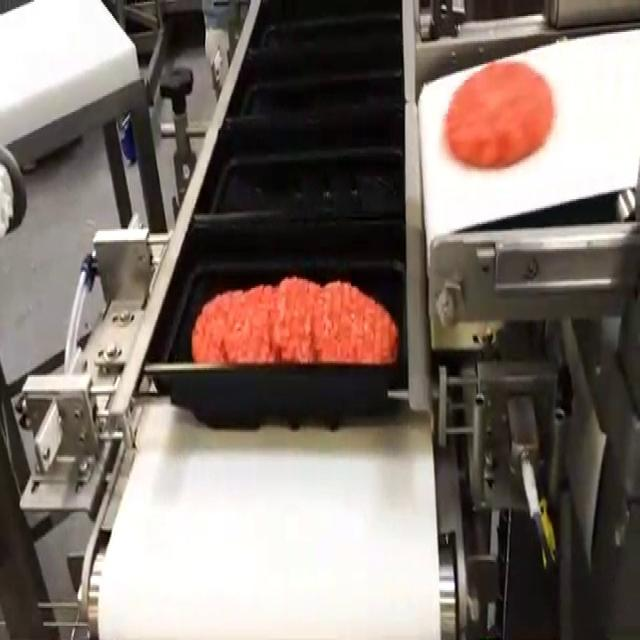4-hamburguer: (192, 276, 398, 364)
